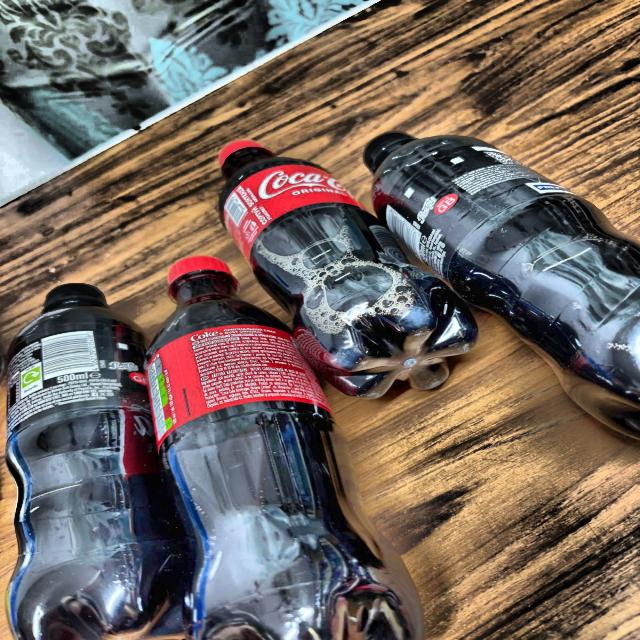coke-bottle: (157, 248, 419, 640), (219, 130, 477, 392)
pepsi-bottle: (381, 110, 640, 432), (19, 280, 173, 640)
